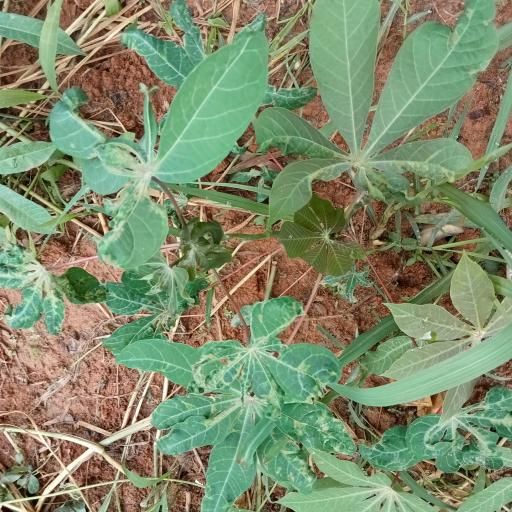Cassava_Mosaic: (258, 1, 506, 219), (54, 43, 274, 258), (117, 339, 346, 503), (193, 297, 346, 406)
